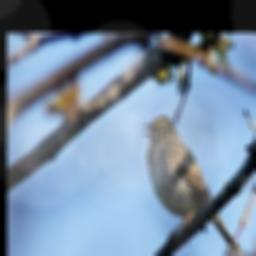Sparrow: (141, 112, 242, 253)
